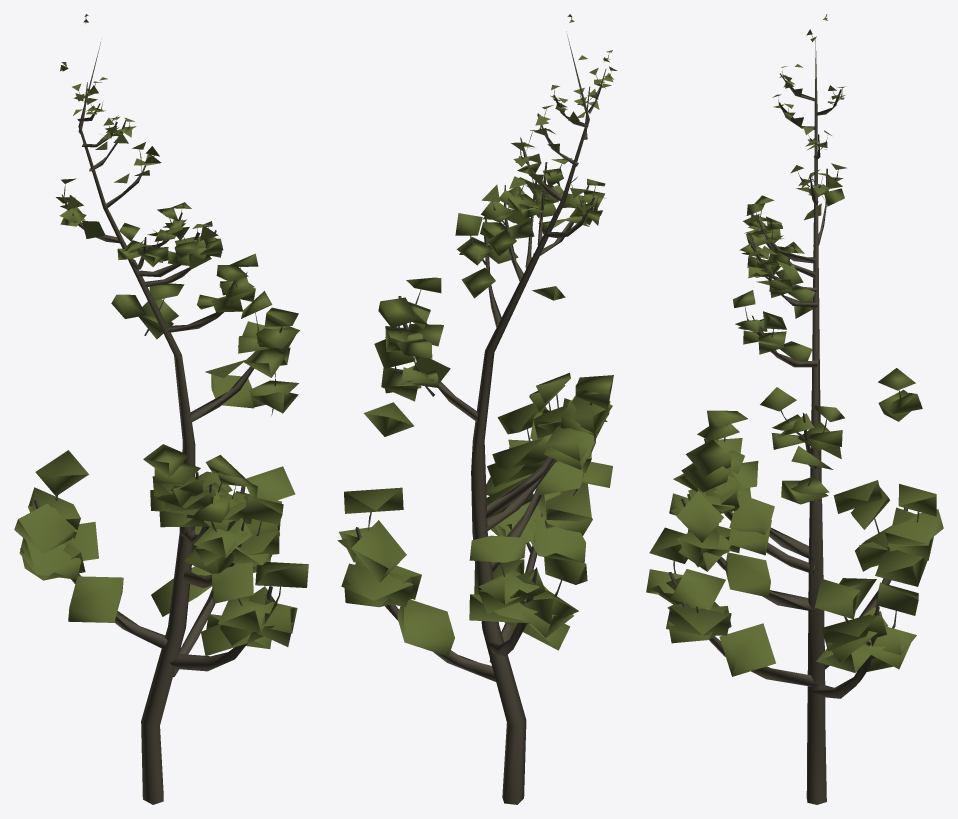
The model's file is Tree_BlackWillow_005.fbx.
3 renders of one model, left to right at view 1: azimuth 30°, elevation 25°; view 2: azimuth 150°, elevation 25°; view 3: azimuth 270°, elevation 25°, orthographic. The views are drawn at different scales.
Parts seen in each view (by area): view 1: Tree_BlackWillow.005; view 2: Tree_BlackWillow.005; view 3: Tree_BlackWillow.005.
Boxes of the visible parts, x1,y1,x2,y2 form: Tree_BlackWillow.005: (14, 14, 308, 804); Tree_BlackWillow.005: (337, 14, 617, 804); Tree_BlackWillow.005: (646, 14, 943, 804).
Size of the model in its own units: 1159 by 3463 by 1232.
